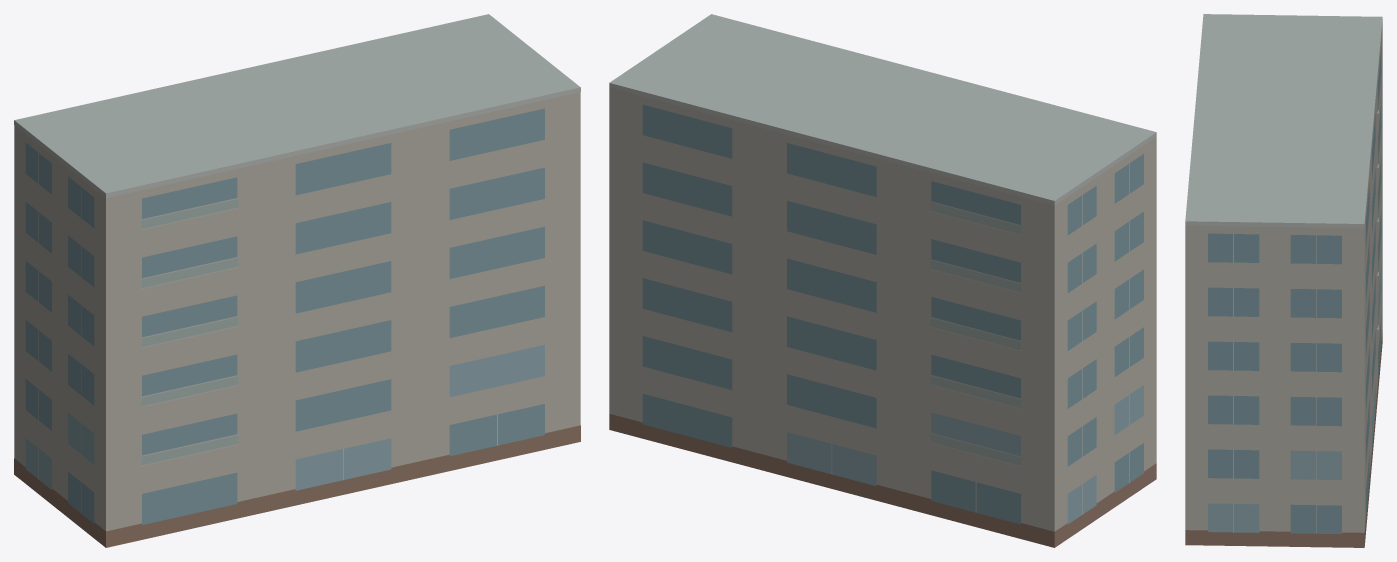
The model's file is survey-upis-32678405.glb.
The picture shows the model from 3 angles, left to right: view 1: azimuth 30°, elevation 25°; view 2: azimuth 150°, elevation 25°; view 3: azimuth 270°, elevation 25°; orthographic projection. The views are drawn at different scales.
Parts seen in each view (by area): view 1: survey-upis-32678405.tmp; view 2: survey-upis-32678405.tmp; view 3: survey-upis-32678405.tmp.
Part boxes in pixels (bbox=[...]): survey-upis-32678405.tmp: bbox=[14, 14, 580, 547]; survey-upis-32678405.tmp: bbox=[609, 14, 1156, 547]; survey-upis-32678405.tmp: bbox=[1185, 14, 1382, 547].
Size of the model in its own units: 25.46 by 18.3 by 10.12.
